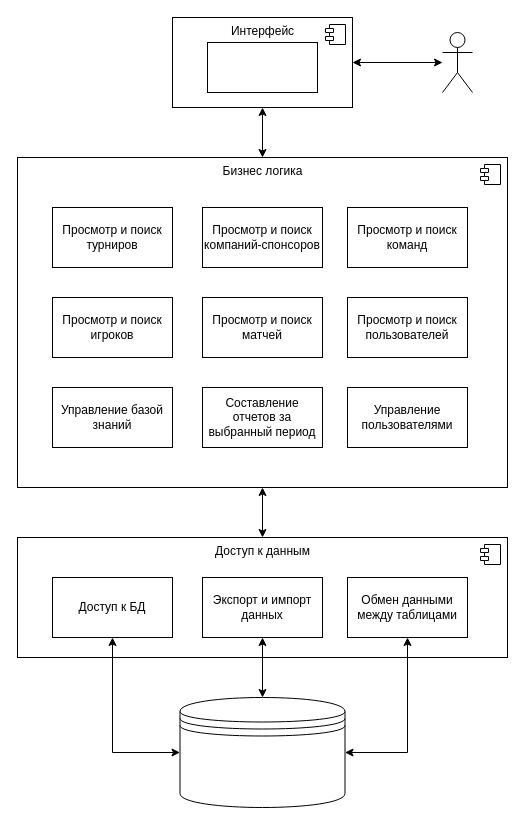
Image size: 525x825. Some labels were removed from this diagram. Here are the shapes that lost their labels. From the top down, the centre of each, then its label:
the point at 262,67: Действие
the point at 457,62: Пользователь
the point at 262,752: БД
